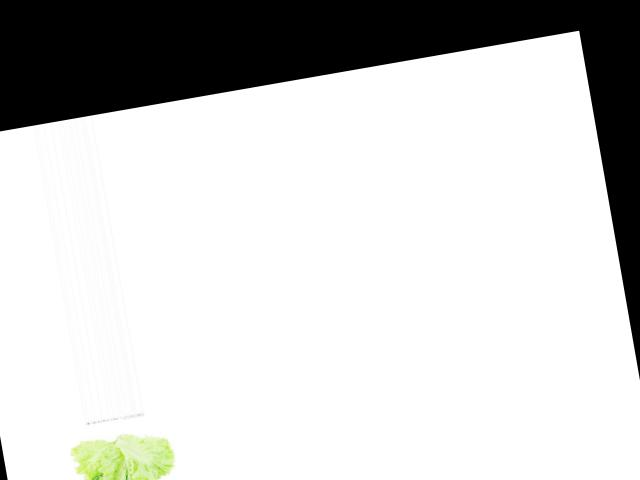lettuce: (65, 412, 183, 480)
